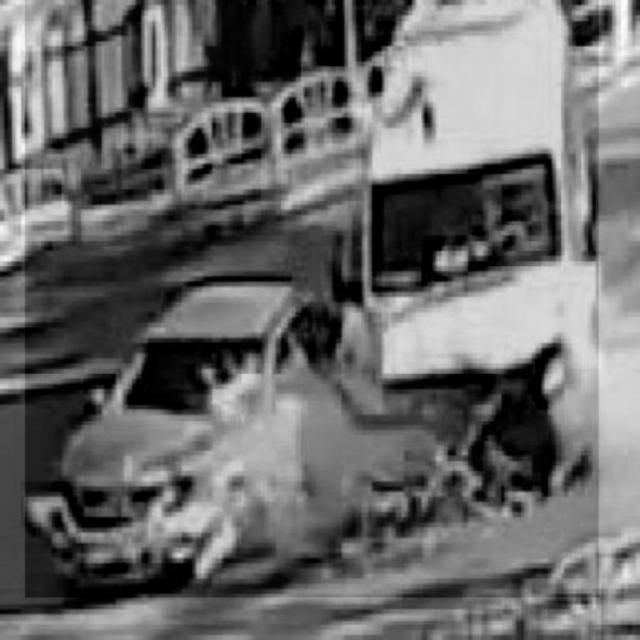accident: (25, 0, 598, 597)
